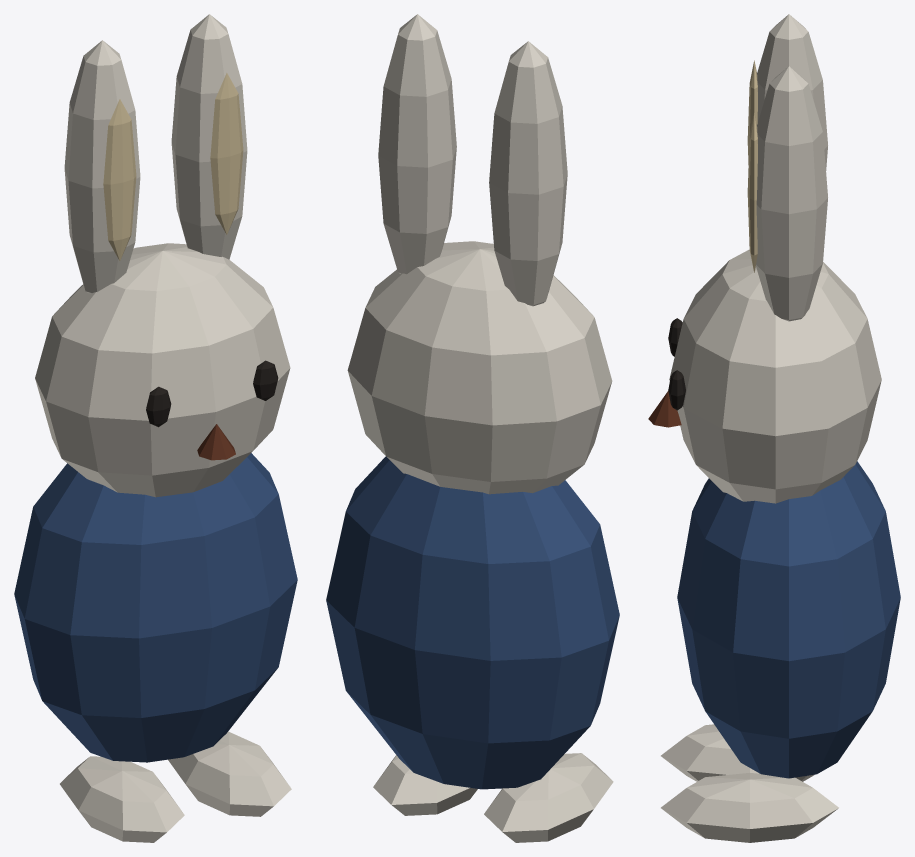
File: patron.glb
3 views of the same model, side by side, from view 1: azimuth 30°, elevation 25°; view 2: azimuth 150°, elevation 25°; view 3: azimuth 270°, elevation 25° (orthographic). The views are drawn at different scales.
Visible parts, largest first — view 1: Body_mesh; view 2: Body_mesh; view 3: Body_mesh.
Boxes of the visible parts, x1=… form: Body_mesh: x1=14, y1=14, x2=297, y2=842; Body_mesh: x1=326, y1=14, x2=619, y2=842; Body_mesh: x1=648, y1=14, x2=900, y2=842.
Size of the model in its own units: 0.27 by 0.76 by 0.226.
